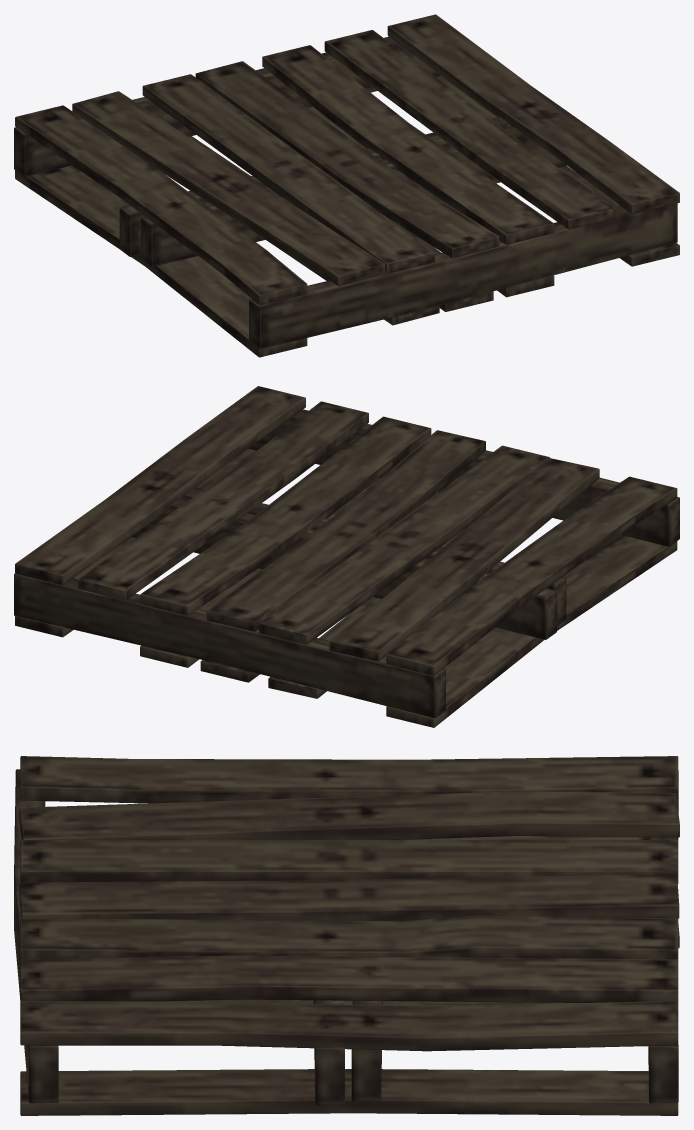
Rendered from Palette.fbx.
The picture shows the model from 3 angles, top to bottom: view 1: azimuth 30°, elevation 25°; view 2: azimuth 150°, elevation 25°; view 3: azimuth 270°, elevation 25°; orthographic projection. The views are drawn at different scales.
Visible parts, largest first — view 1: Pallette; view 2: Pallette; view 3: Pallette.
Part boxes in pixels (x1=…): Pallette: x1=14, y1=14, x2=679, y2=357; Pallette: x1=14, y1=386, x2=679, y2=727; Pallette: x1=14, y1=756, x2=679, y2=1115.
Size of the model in its own units: 203 by 29.17 by 202.
